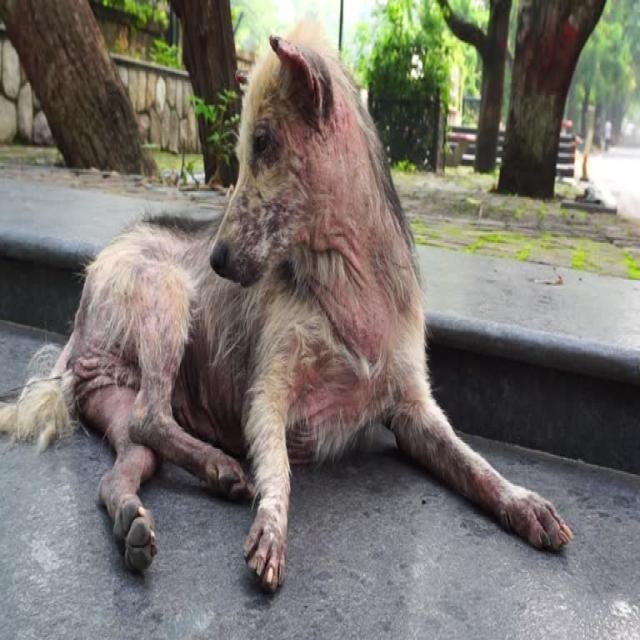mange: (250, 280, 407, 402), (80, 238, 189, 352)
